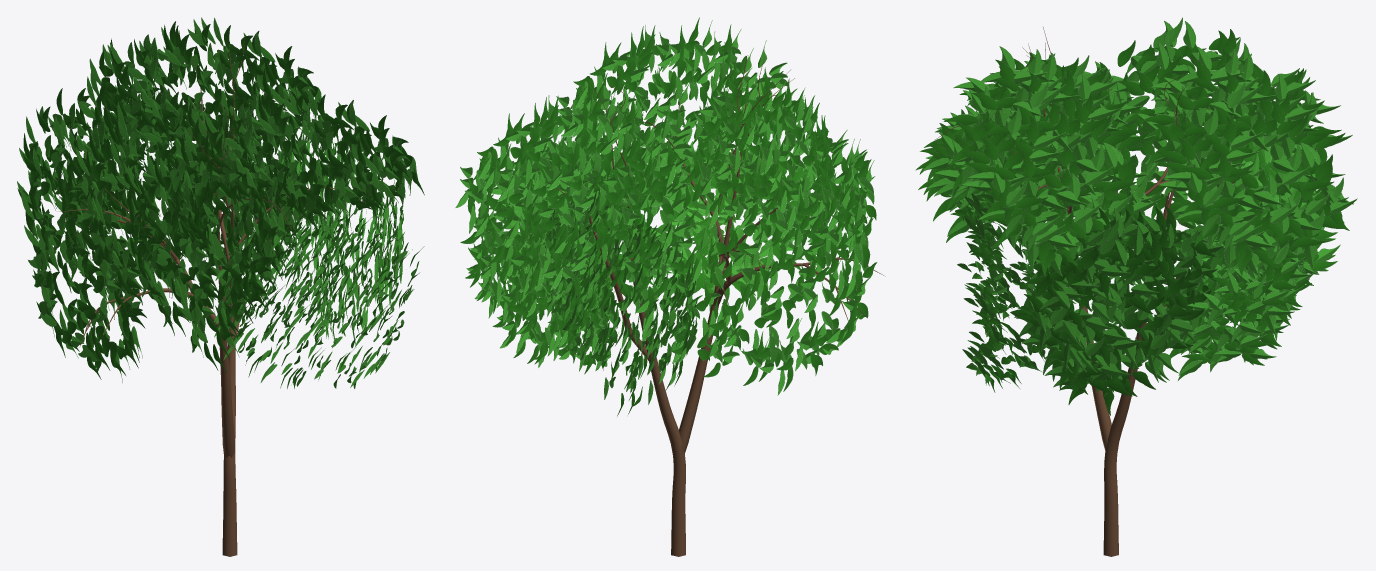
The model's file is Model_GenericTree02.fbx.
3 renders of one model, left to right at view 1: azimuth 30°, elevation 25°; view 2: azimuth 150°, elevation 25°; view 3: azimuth 270°, elevation 25°, orthographic. The views are drawn at different scales.
Visible parts, largest first — view 1: Leaves2, Generic_Trunk2; view 2: Leaves2, Generic_Trunk2; view 3: Leaves2, Generic_Trunk2.
Boxes of the visible parts, x1,y1,x2,y2 form: Leaves2: (17,17,424,388); Generic_Trunk2: (59,37,366,556); Leaves2: (455,17,877,416); Generic_Trunk2: (550,55,885,556); Leaves2: (915,17,1357,415); Generic_Trunk2: (935,27,1235,556).
Size of the model in its own units: 4.79 by 6.3 by 5.09.
